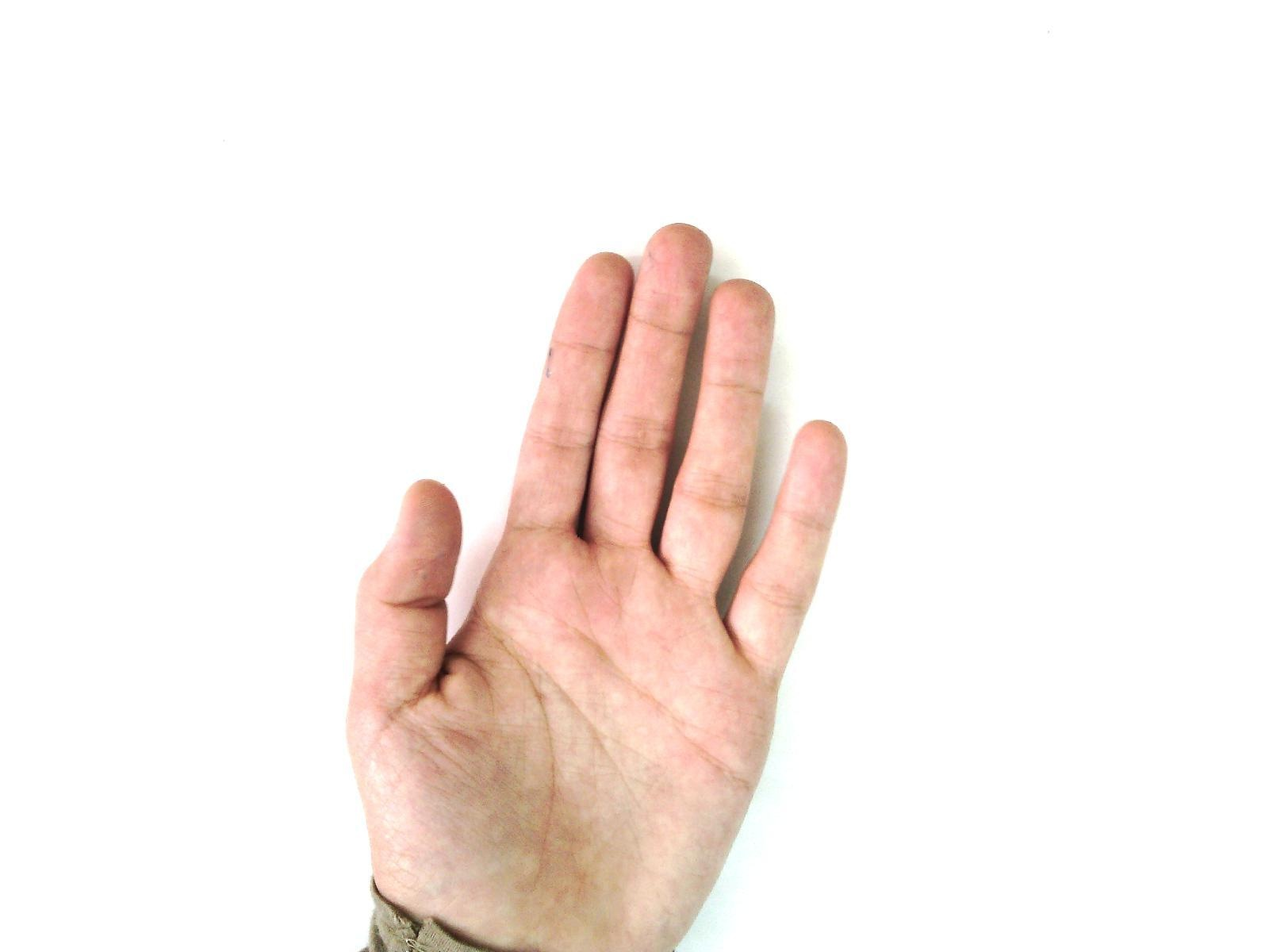open_palm: (344, 222, 851, 951)
